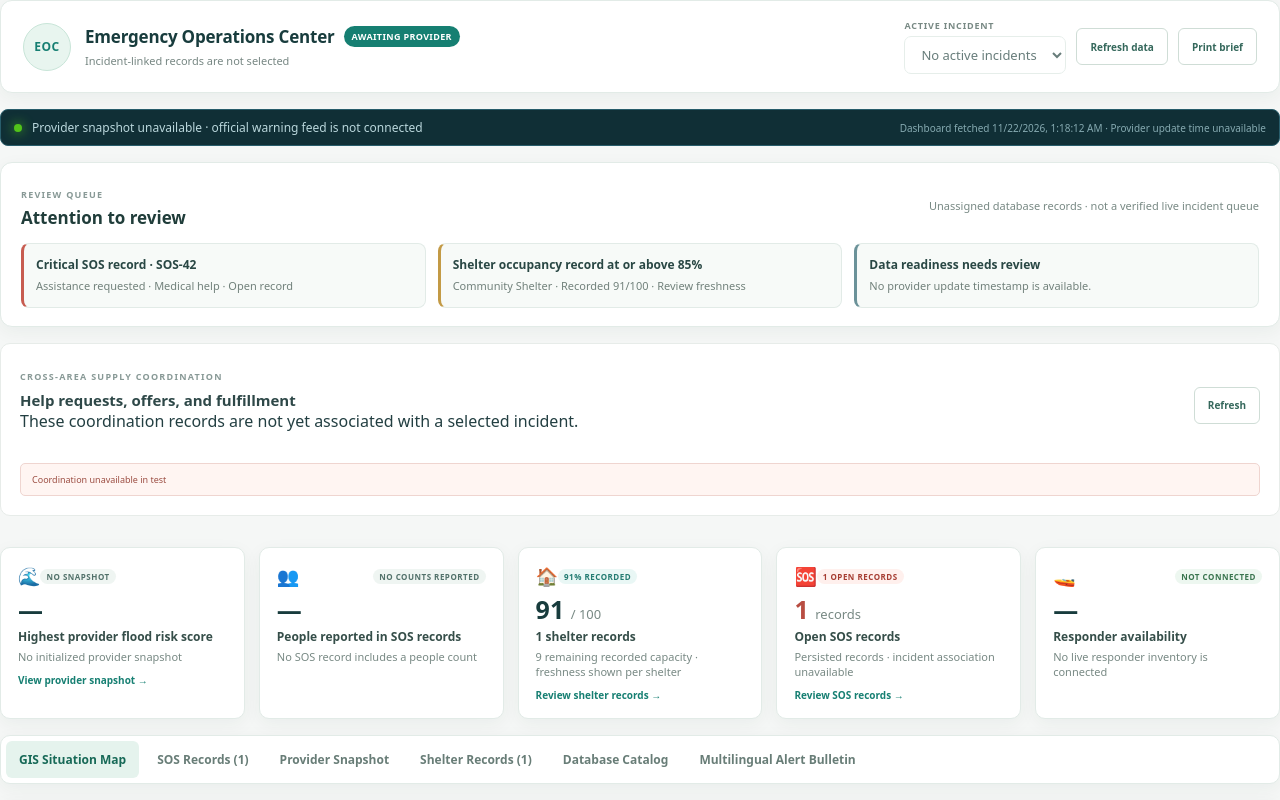
Test: EOC dashboard › does not claim incident selection, live routes, or an ML hydrograph without connected data
The image size is (1280, 800).
Expected: the dropdown labelled "ACTIVE INCIDENT" is disabled, [904,36,1066,74]
Step 1. Click the button "Provider Snapshot" → {"x": 334, "y": 759}, box [267,740,402,778]
(page scrolled)
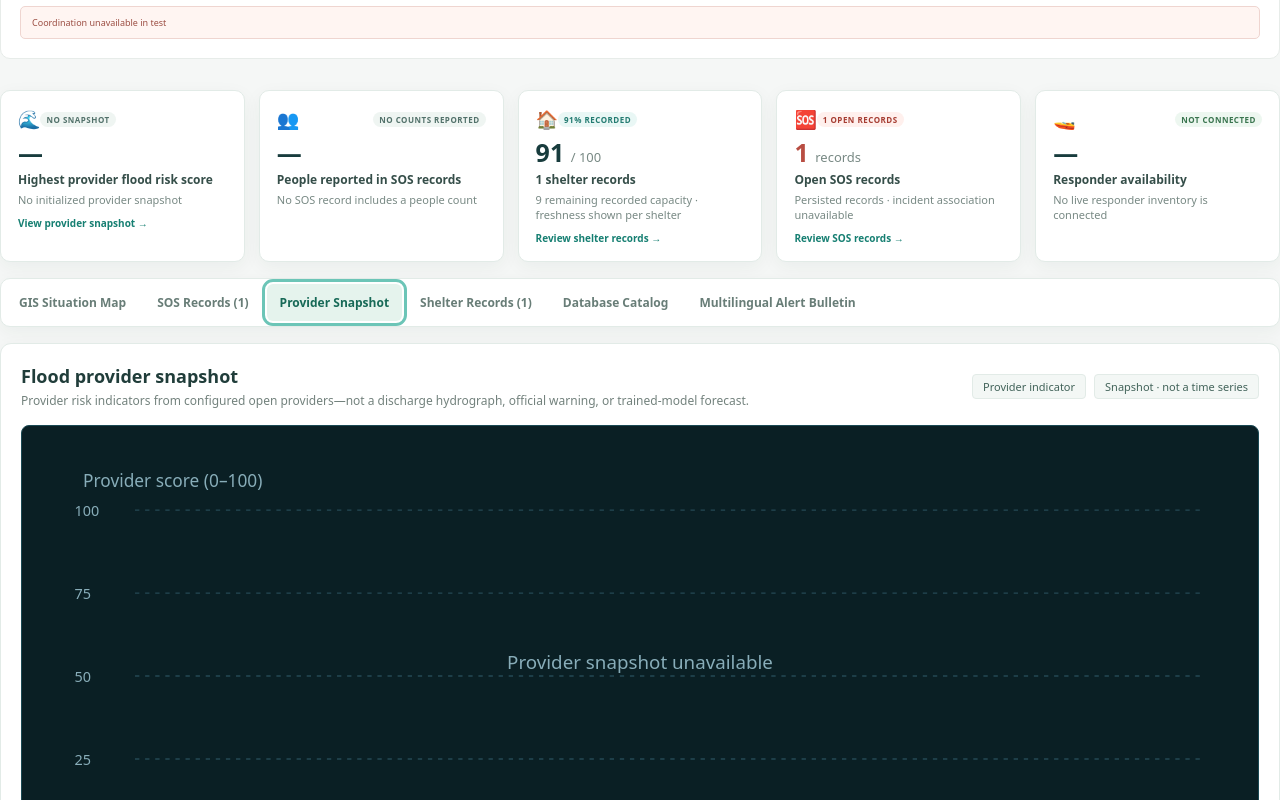
Result: the text "not a discharge hydrograph, official warning" is shown at [21,392,749,408]
